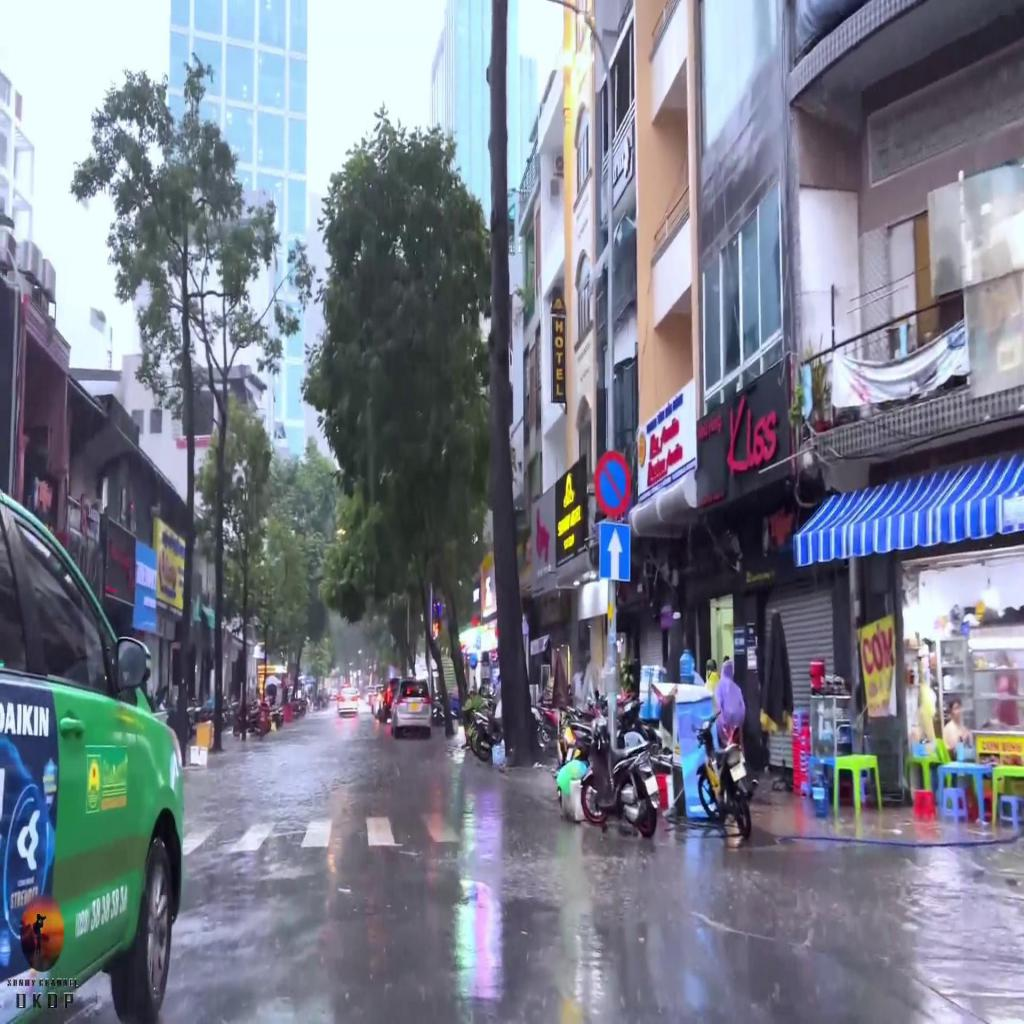cam_do_xe: (593, 453, 632, 516)
duong_mot_chieu: (600, 524, 630, 580)
